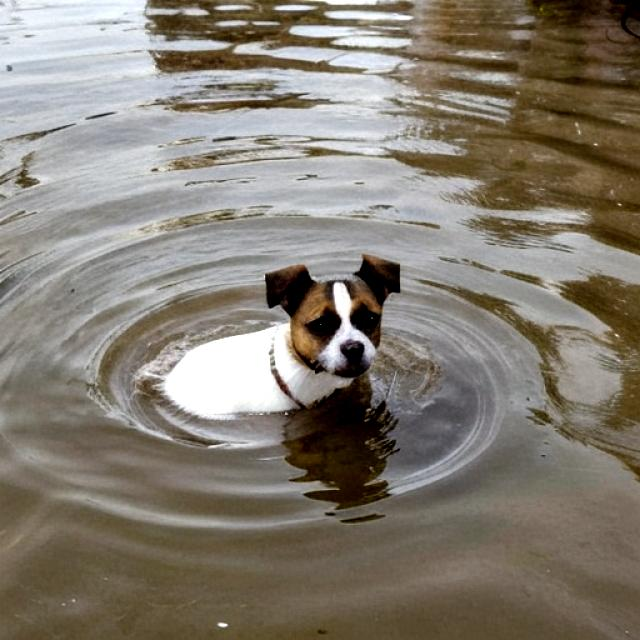dog: (133, 233, 424, 432)
